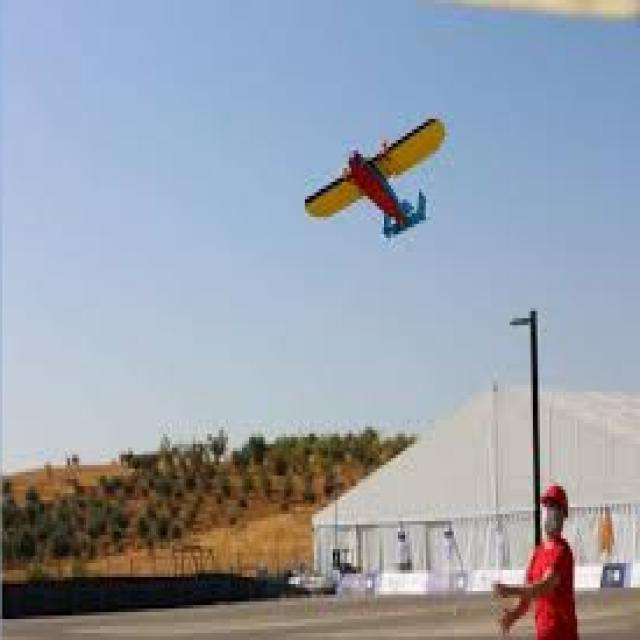UAV: (168, 91, 477, 298)
